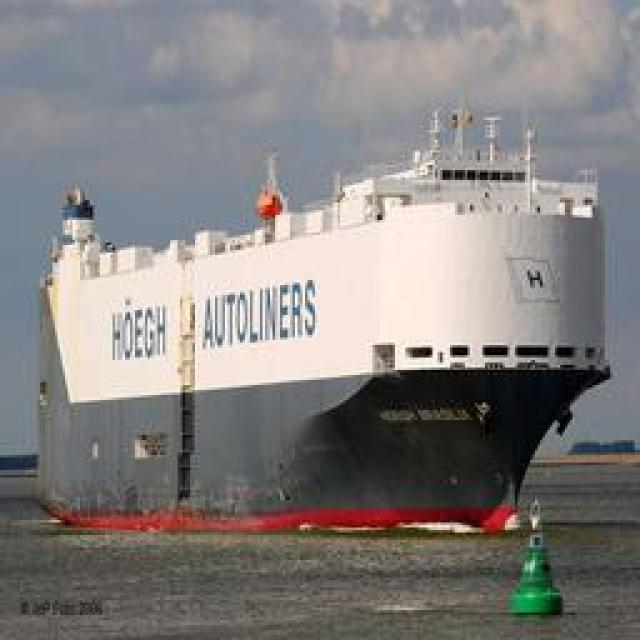ship2: (34, 104, 613, 537)
